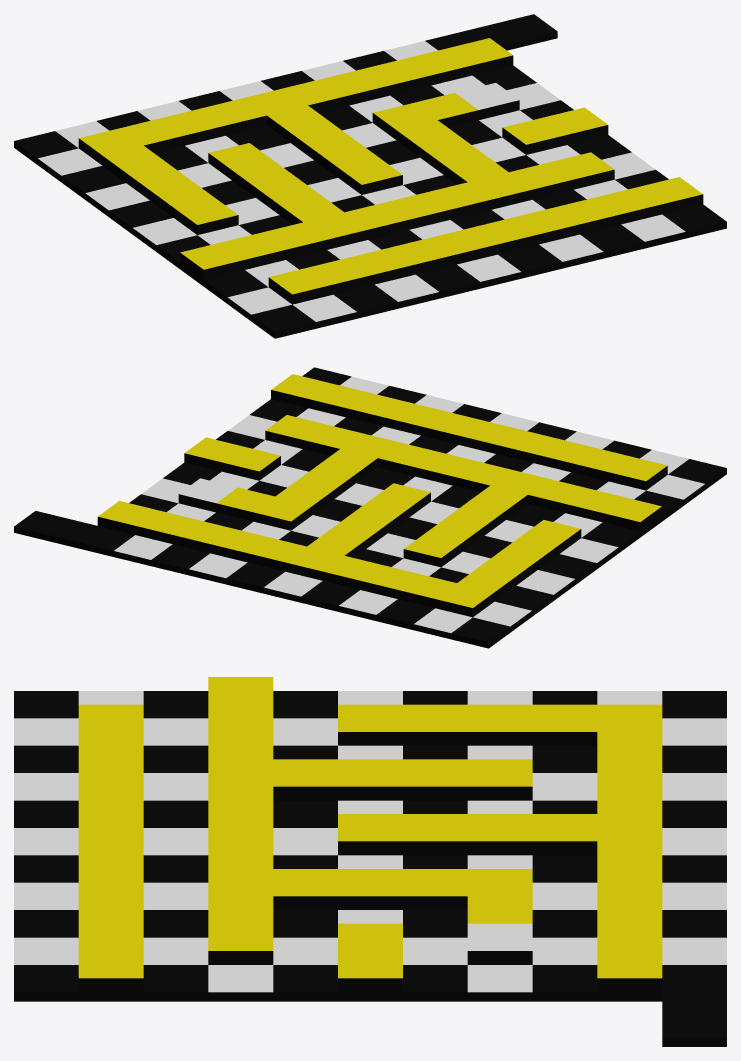
File: newmap.fbx
3 views of the same model, one above another, from view 1: azimuth 30°, elevation 25°; view 2: azimuth 150°, elevation 25°; view 3: azimuth 270°, elevation 25° (orthographic). The views are drawn at different scales.
Visible parts, largest first — view 1: Cube.001; view 2: Cube.001; view 3: Cube.001.
Part boxes in pixels (box(x1,y1,x2,y2)): Cube.001: box(14, 14, 726, 338); Cube.001: box(14, 367, 726, 648); Cube.001: box(14, 677, 726, 1046).
Size of the model in its own units: 1611 by 50 by 1400.
